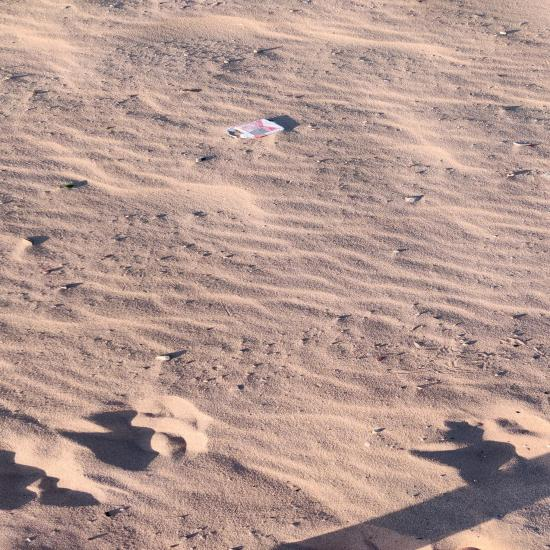Paper cup: (85, 430, 235, 498)
